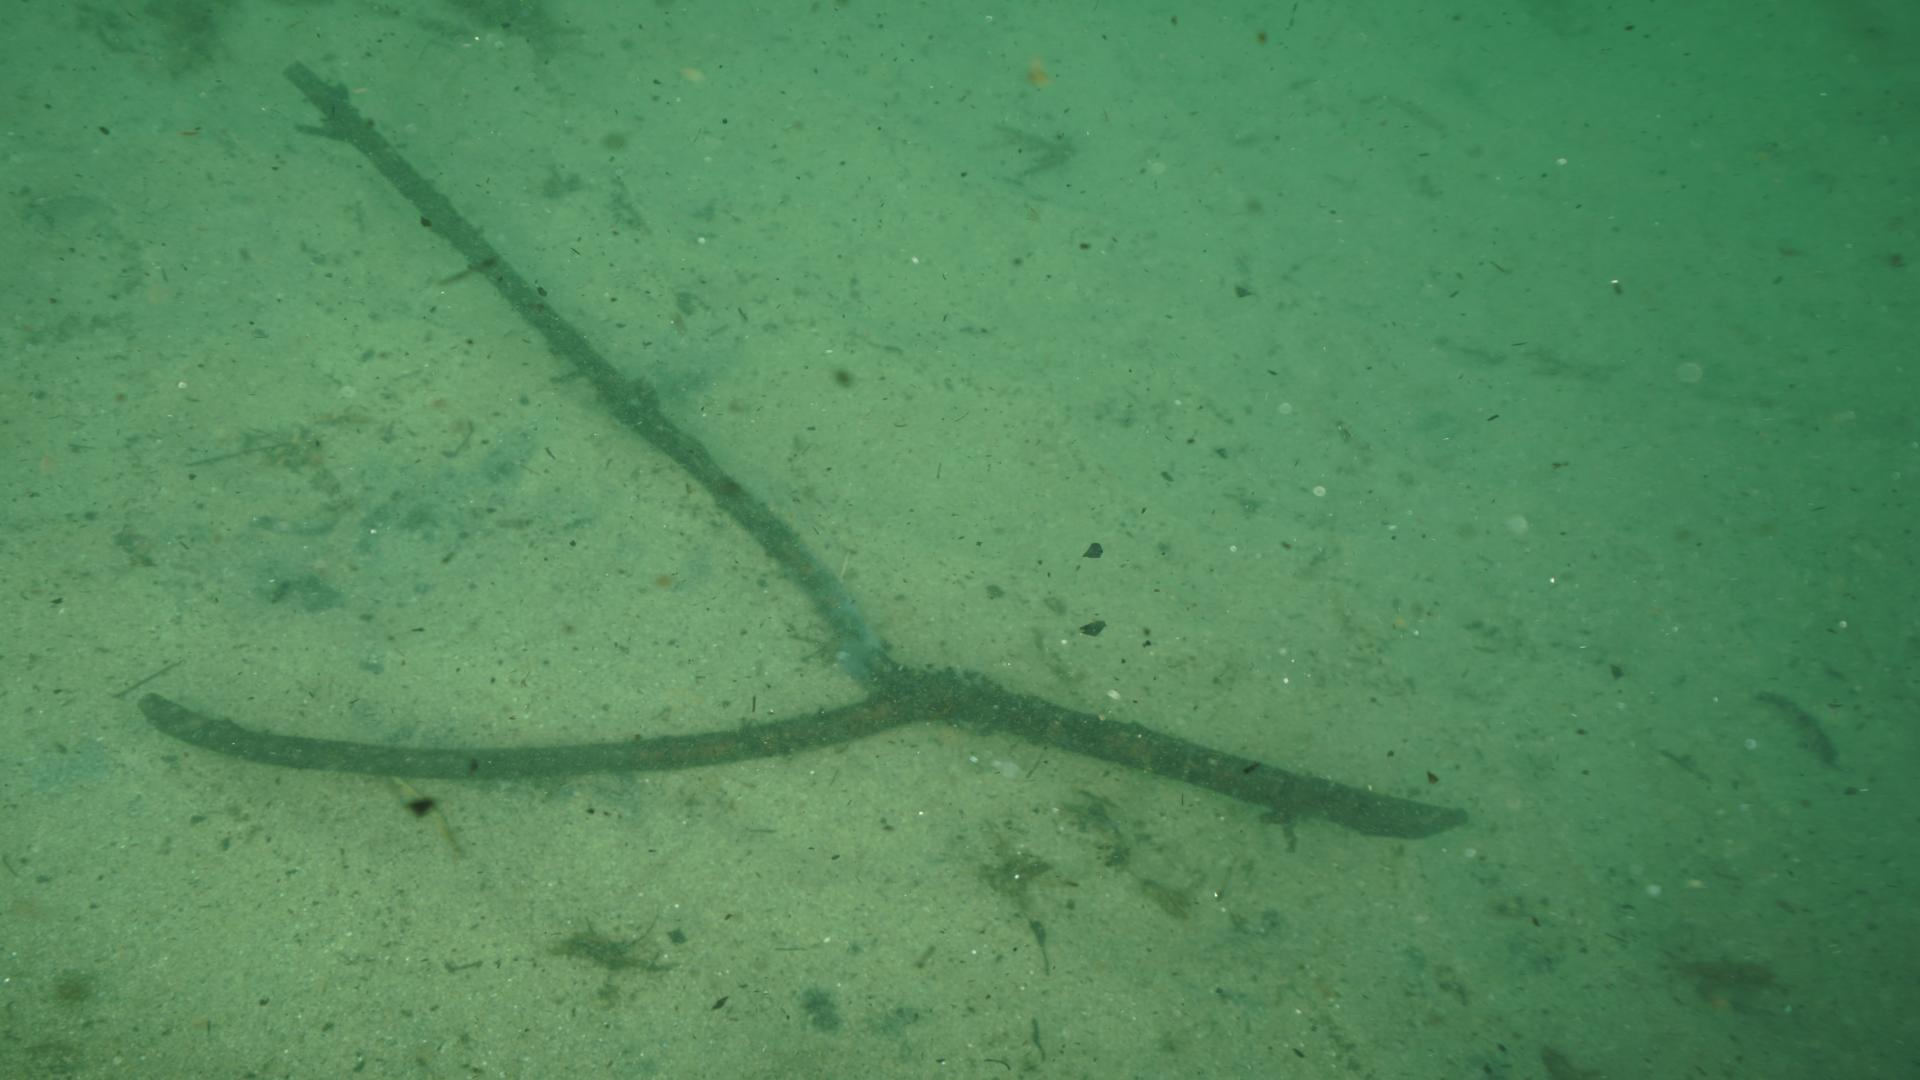wood: (138, 58, 1469, 839)
